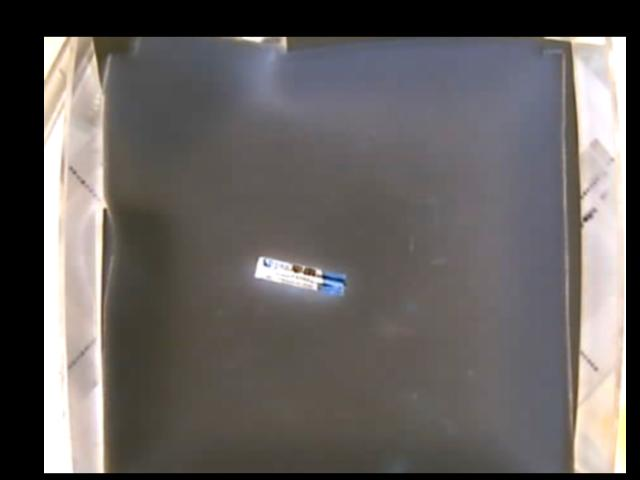Battery: (254, 255, 347, 295)
